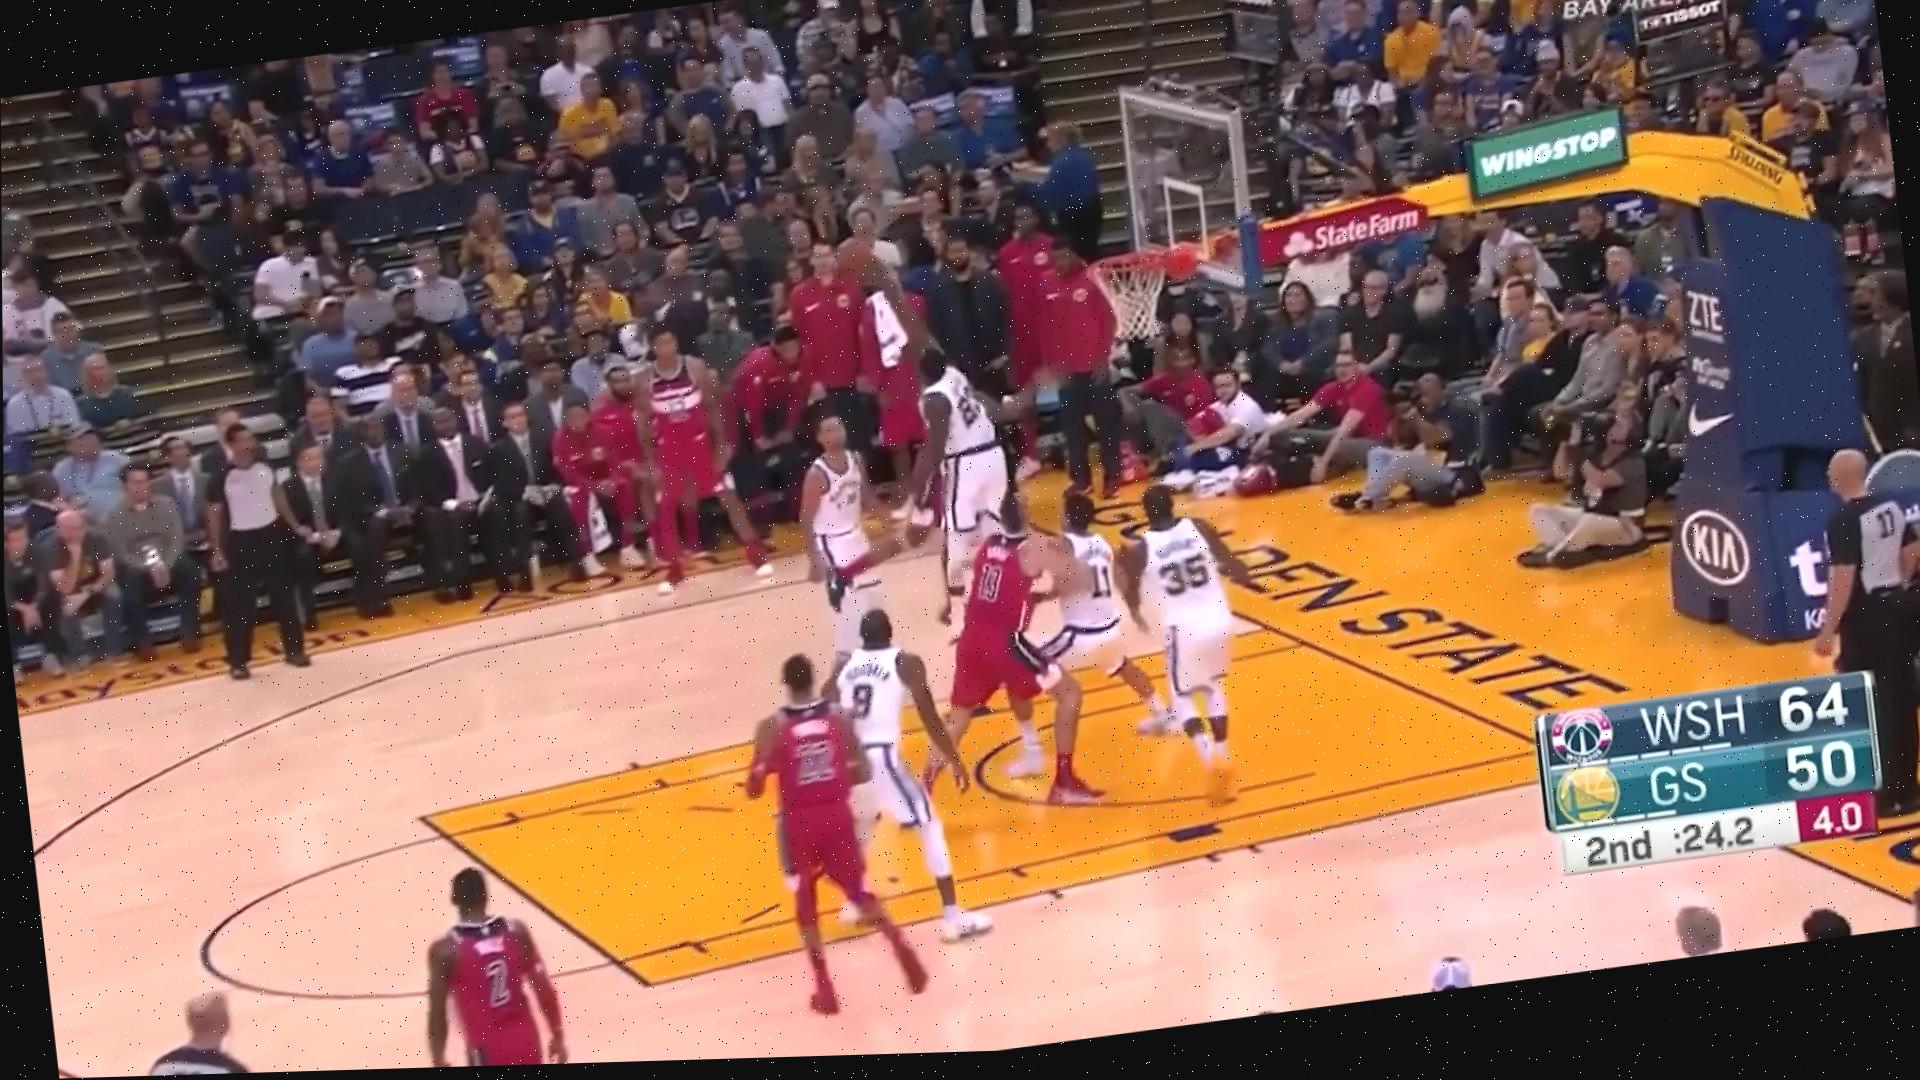foul: (855, 334, 1079, 655)
